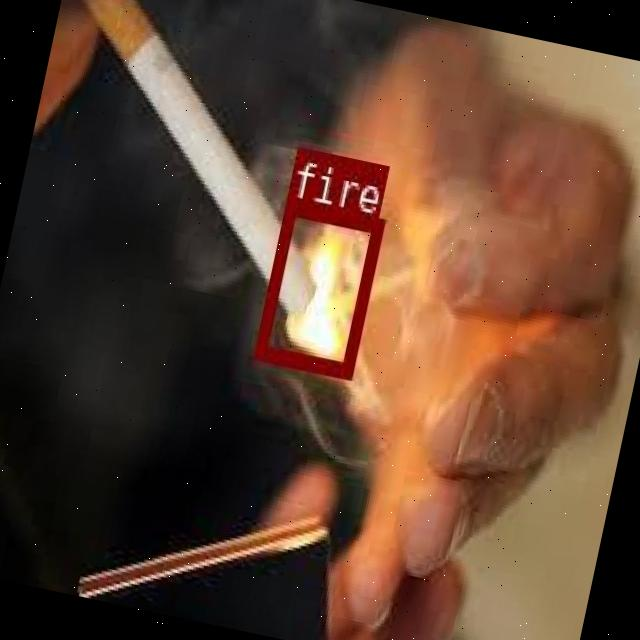fire: (252, 196, 382, 374)
